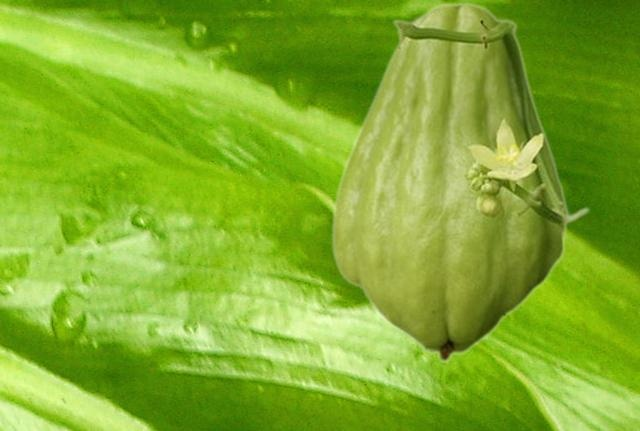sayote: (330, 2, 590, 362)
